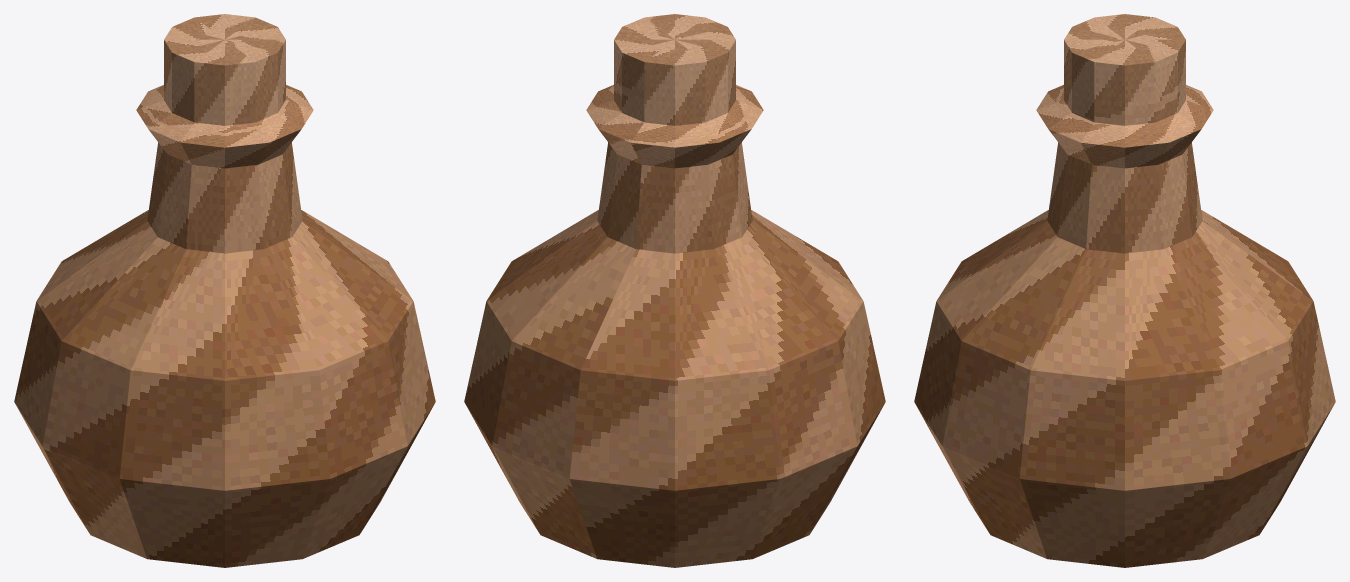
File: extrato_de_mandragora.glb
3 views of the same model, side by side, from view 1: azimuth 30°, elevation 25°; view 2: azimuth 150°, elevation 25°; view 3: azimuth 270°, elevation 25° (orthographic).
Parts seen in each view (by area): view 1: extrato_de_mandragora; view 2: extrato_de_mandragora; view 3: extrato_de_mandragora.
Boxes of the visible parts, bbox=[...] form: extrato_de_mandragora: bbox=[14, 14, 435, 567]; extrato_de_mandragora: bbox=[464, 14, 885, 567]; extrato_de_mandragora: bbox=[914, 14, 1335, 567].
Size of the model in its own units: 0.1824 by 0.2304 by 0.1824.
Materials: 1 (1 with a texture image).
